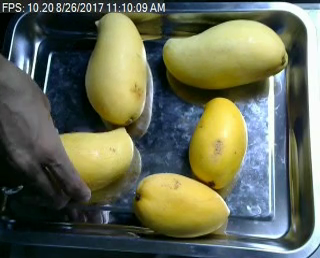Mango: (162, 18, 288, 93), (84, 10, 150, 125), (134, 171, 231, 238), (183, 97, 251, 192), (54, 124, 136, 188)
